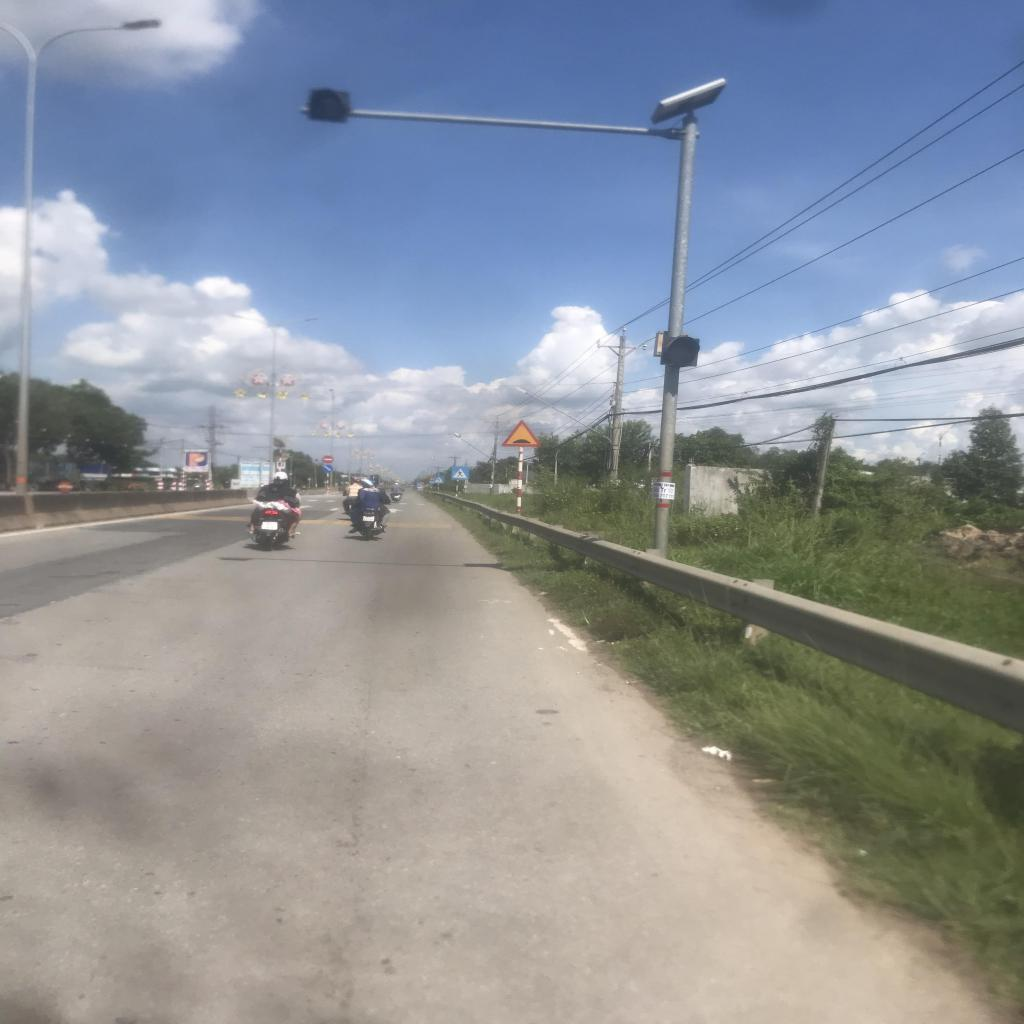cam_xe_di_nguoc_chieu: (323, 455, 333, 463)
duong_co_song_map_mo_nhan_tao: (501, 420, 543, 447)
duong_nguoi_di_bo_sang_ngang: (452, 466, 469, 480), (434, 476, 444, 484)
huong_phai_di_vuot_chuong_ngai_vat_phai: (323, 465, 333, 472)
